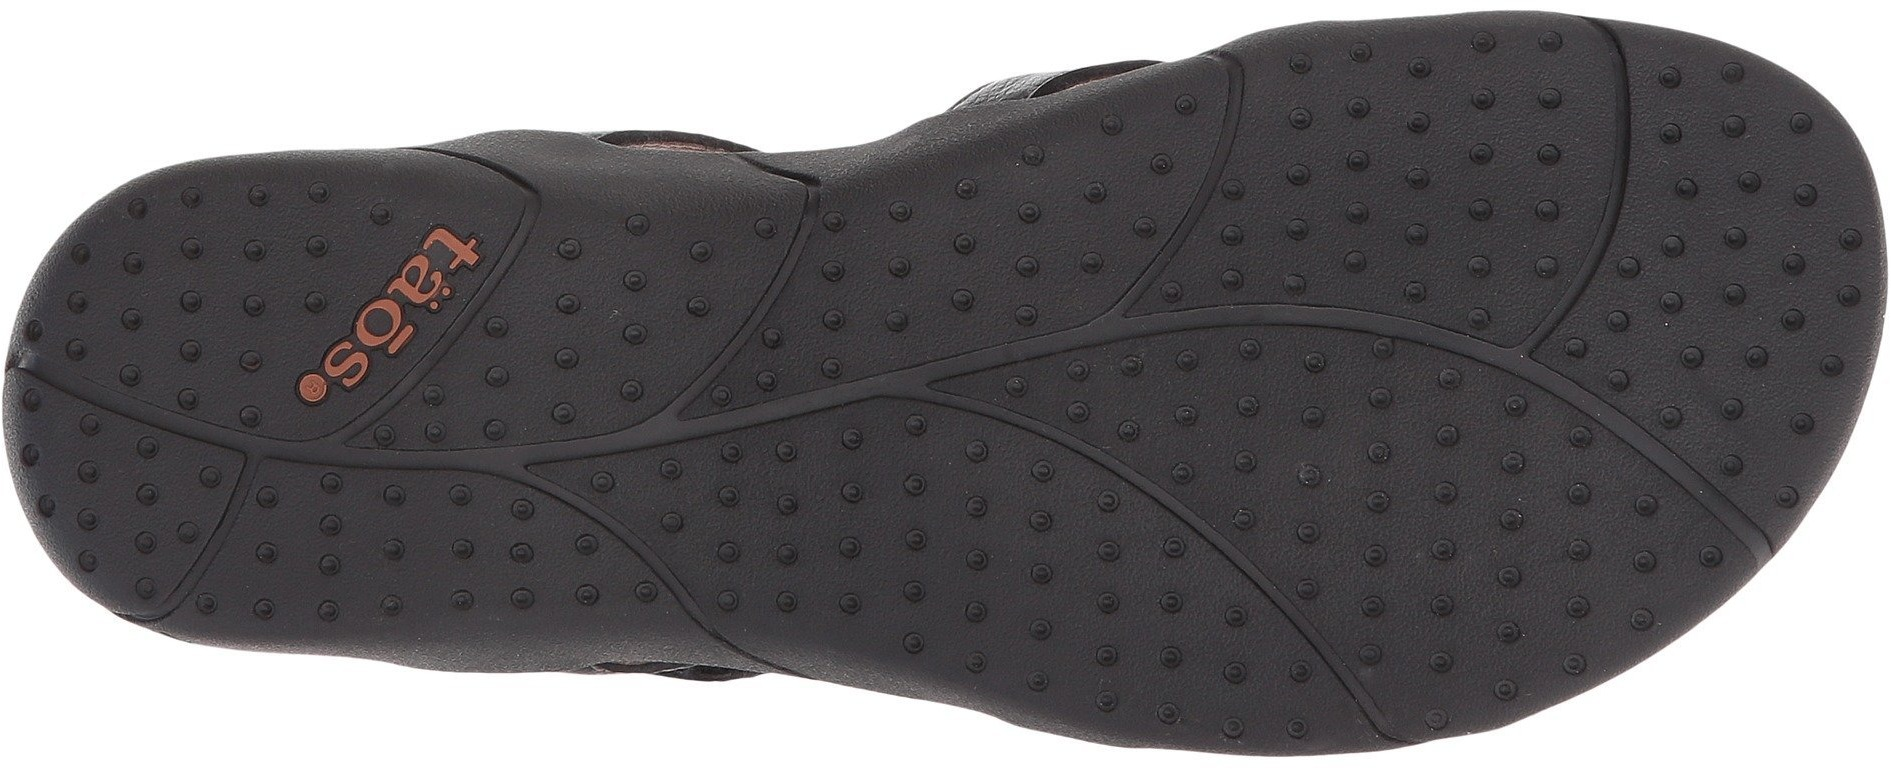circle: (1293, 60, 1556, 322), (1287, 378, 1541, 628), (803, 442, 1041, 658), (1645, 186, 1857, 410), (93, 211, 287, 399), (281, 471, 456, 639), (896, 184, 1079, 341), (513, 272, 669, 425)
text: (317, 322, 397, 395), (402, 231, 482, 300)
